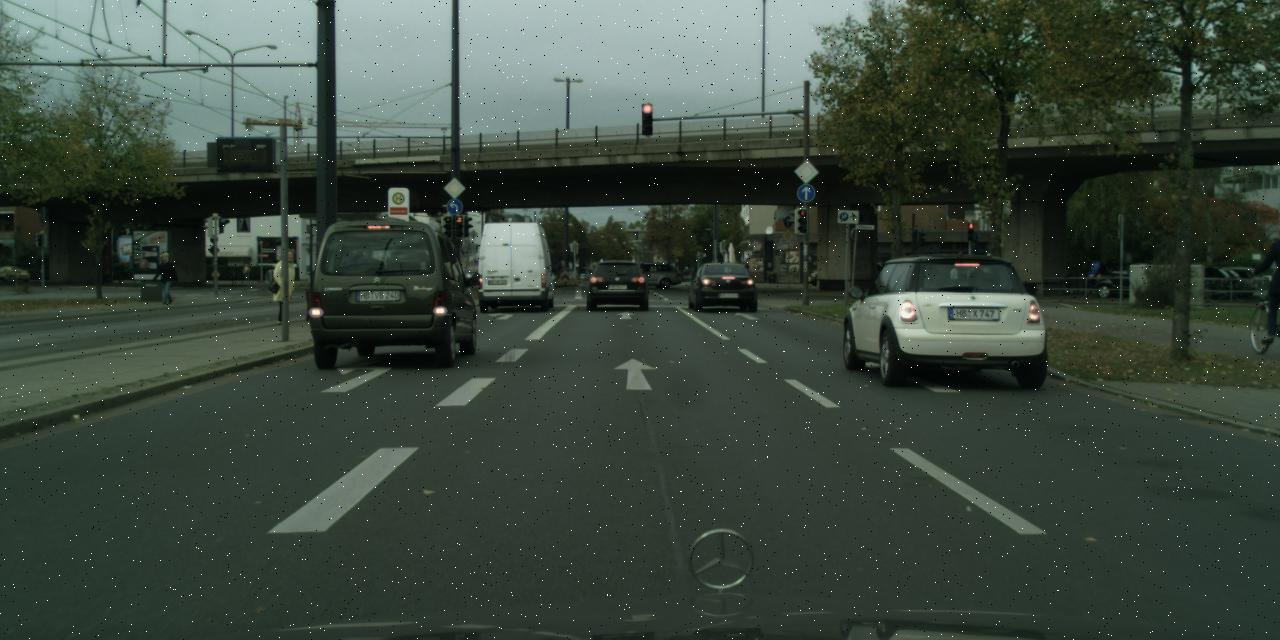ped: (1254, 224, 1279, 343), (271, 249, 301, 324), (155, 251, 176, 303), (242, 262, 250, 280)
